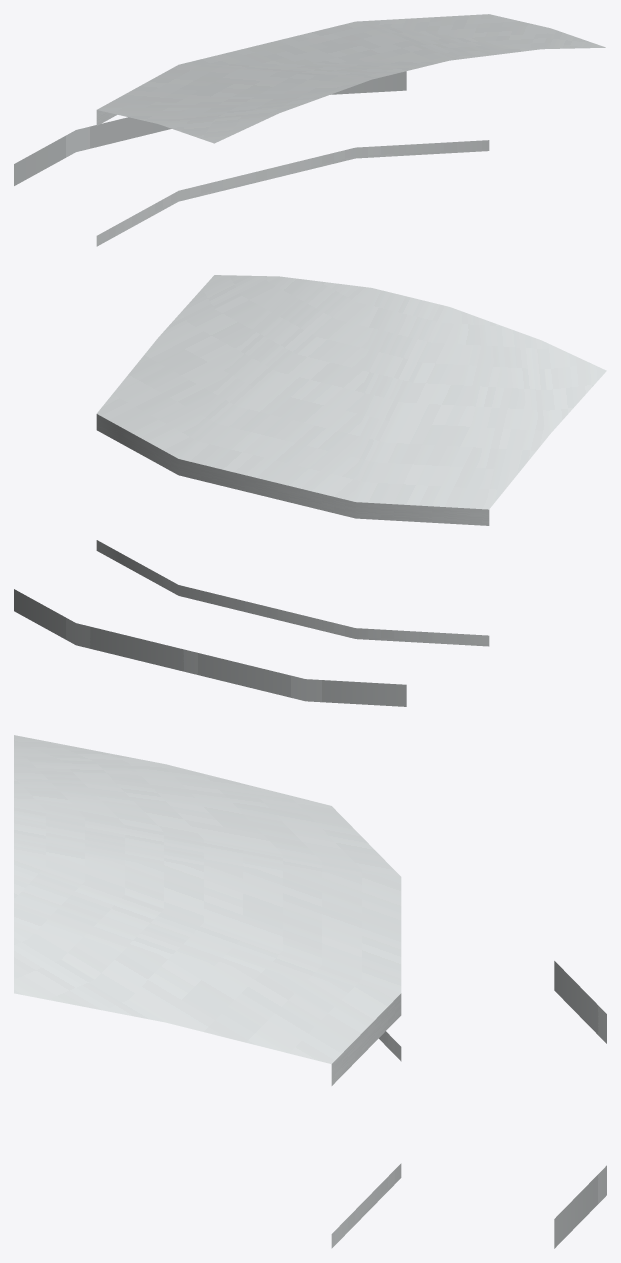
The model's file is bowl_small_band_shell_0.obj.
3 renders of one model, top to bottom at view 1: azimuth 30°, elevation 25°; view 2: azimuth 150°, elevation 25°; view 3: azimuth 270°, elevation 25°, orthographic. The views are drawn at different scales.
Parts seen in each view (by area): view 1: bowl_small_band_shell_0; view 2: bowl_small_band_shell_0; view 3: bowl_small_band_shell_0.
Boxes of the visible parts, <box> form: bowl_small_band_shell_0: <box>14,14,605,246</box>; bowl_small_band_shell_0: <box>14,275,606,706</box>; bowl_small_band_shell_0: <box>14,735,606,1248</box>.
Bounding box in the file's own units: 3 × 1.57 × 2.91.
